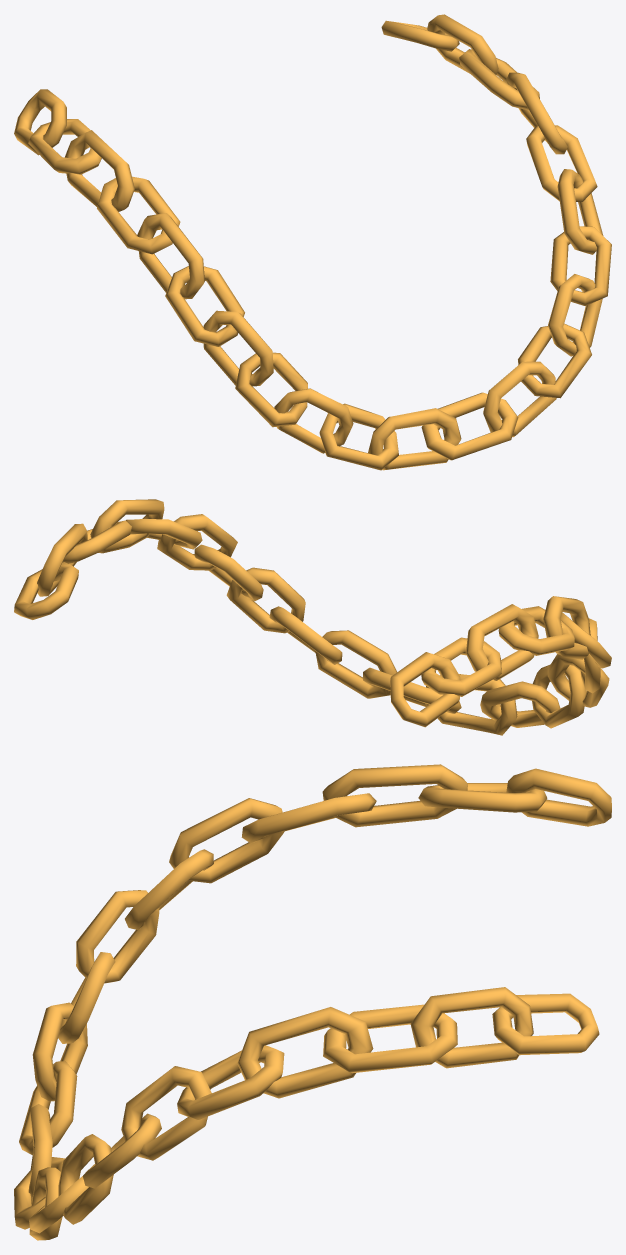
File: chain.fbx
3 views of the same model, one above another, from view 1: azimuth 30°, elevation 25°; view 2: azimuth 150°, elevation 25°; view 3: azimuth 270°, elevation 25° (orthographic). The views are drawn at different scales.
Parts seen in each view (by area): view 1: Rectangle013; view 2: Rectangle013; view 3: Rectangle013.
Part boxes in pixels (x1,y1,x2,y2): Rectangle013: (14, 14, 611, 470); Rectangle013: (14, 499, 611, 735); Rectangle013: (14, 764, 611, 1240).
Bounding box in the file's own units: 4.11 × 2.34 × 3.83.
Materials: 1 (1 with a texture image).
